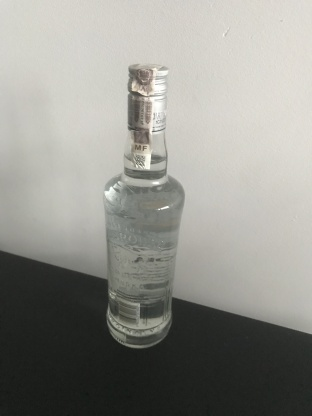nakretka: (125, 62, 169, 133)
